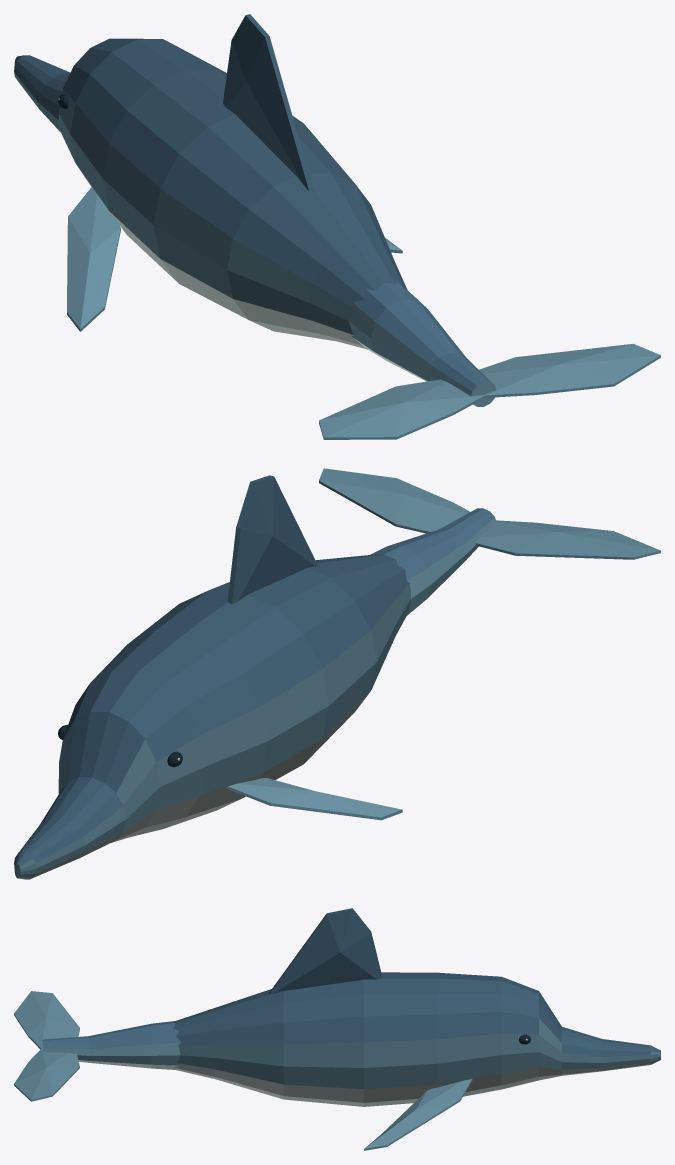
Rendered from wild_dolphin.glb.
The picture shows the model from 3 angles, top to bottom: view 1: azimuth 30°, elevation 25°; view 2: azimuth 150°, elevation 25°; view 3: azimuth 270°, elevation 25°; orthographic projection. The views are drawn at different scales.
Visible parts, largest first — view 1: continuous dolphin skin, horizontal crescent fluke, flexible tail stock, swept pectoral fin; view 2: continuous dolphin skin, horizontal crescent fluke, flexible tail stock, swept pectoral fin; view 3: continuous dolphin skin, horizontal crescent fluke, flexible tail stock, swept pectoral fin.001.
Boxes of the visible parts, x1,y1,x2,y2 form: continuous dolphin skin: (14, 14, 407, 349); horizontal crescent fluke: (319, 343, 660, 439); flexible tail stock: (348, 281, 496, 406); swept pectoral fin: (67, 187, 120, 331); continuous dolphin skin: (14, 475, 410, 879); horizontal crescent fluke: (319, 468, 660, 559); flexible tail stock: (370, 508, 496, 615); swept pectoral fin: (226, 778, 402, 820); continuous dolphin skin: (173, 908, 660, 1106); horizontal crescent fluke: (14, 991, 79, 1101); flexible tail stock: (42, 1021, 180, 1069); swept pectoral fin.001: (364, 1079, 472, 1150).
Size of the model in its own units: 0.9 by 0.735 by 2.25.
